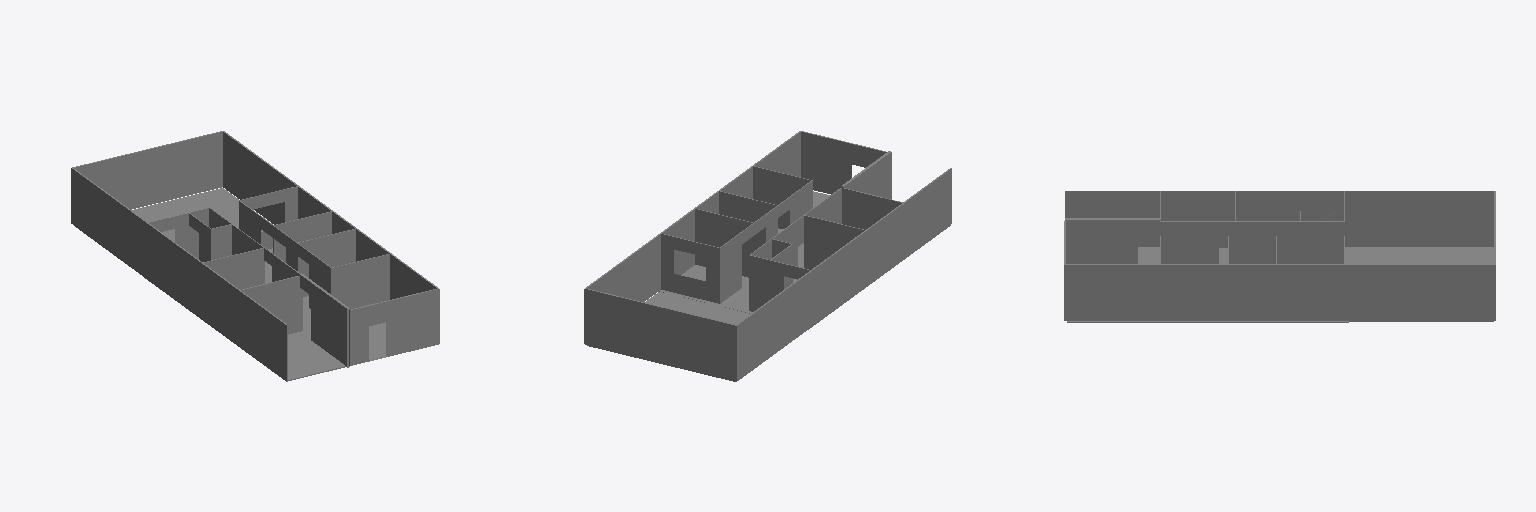
Rendered from edit.obj.
3 views of the same model, side by side, from view 1: azimuth 30°, elevation 25°; view 2: azimuth 150°, elevation 25°; view 3: azimuth 270°, elevation 25° (orthographic).
Parts seen in each view (by area): view 1: Line001, Line018, Box159, Line002, Line003, Box160, Line019, Line007, Line005, Line009, Line012, Line020; view 2: Line001, Line018, Line020, Line019, Line003, Line005, Line009, Box160, Box159, Line002, Line007, Line012; view 3: Line001, Line018, Line002, Box160, Line019, Line003, Box159.
Part boxes in pixels (x1,y1,x2,y2): Line001: (71, 131, 439, 380); Line018: (239, 200, 389, 309); Box159: (145, 248, 385, 381); Line002: (299, 273, 349, 367); Line003: (240, 254, 302, 334); Box160: (76, 188, 271, 277); Line019: (148, 207, 256, 258); Line007: (297, 229, 355, 296); Line005: (203, 248, 264, 289); Line009: (273, 211, 331, 262); Line012: (189, 213, 231, 261); Line020: (240, 186, 297, 249); Line001: (584, 131, 951, 381); Line018: (720, 166, 812, 303); Line020: (661, 234, 719, 303); Line019: (749, 220, 809, 311); Line003: (812, 188, 903, 229); Line005: (804, 215, 864, 269); Line009: (695, 208, 753, 277); Box160: (587, 292, 808, 381); Box159: (659, 191, 950, 328); Line002: (841, 151, 891, 199); Line007: (719, 191, 776, 250); Line012: (771, 239, 792, 288); Line001: (1064, 191, 1495, 320); Line018: (1160, 236, 1343, 264); Line002: (1065, 218, 1160, 263); Box160: (1349, 247, 1493, 321); Line019: (1249, 191, 1344, 263); Line003: (1160, 191, 1218, 263); Box159: (1067, 247, 1348, 322).
Bounding box in the file's own units: 3170392 × 1169828 × 7728280.